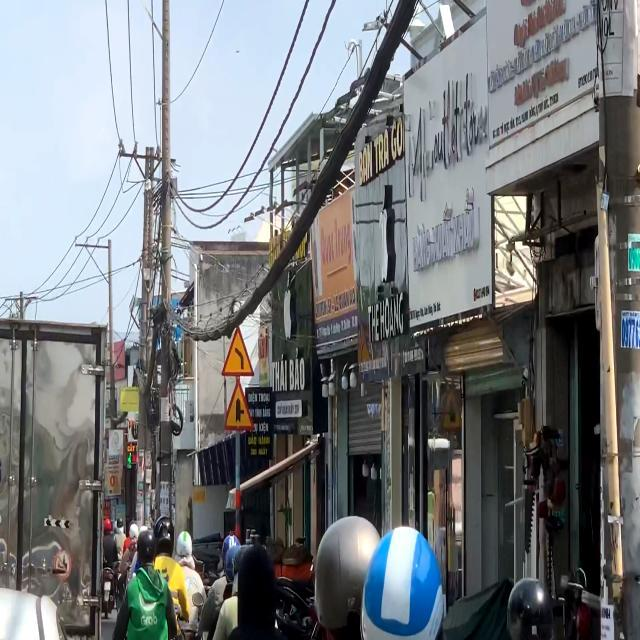Giao nhau voi duong khong uu tien ben phai: (221, 378, 257, 434)
cho ngoat nguy hiem vong ben trai: (220, 321, 256, 379)
